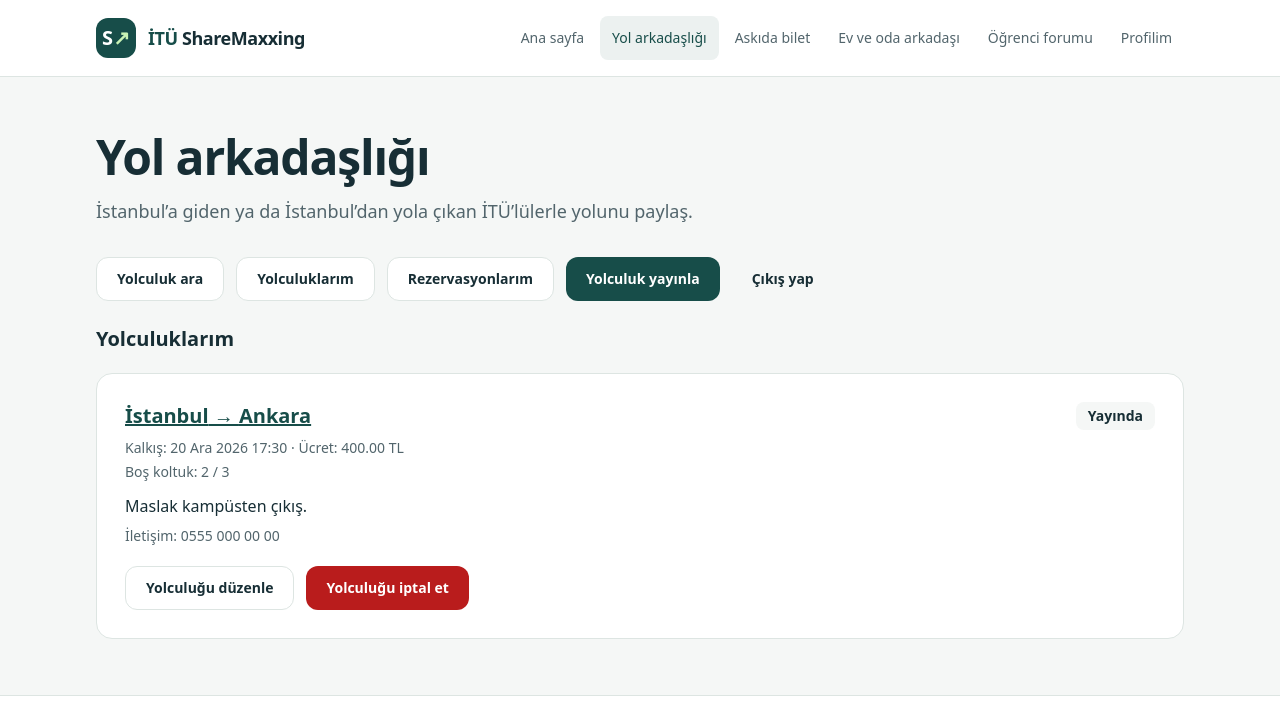
Test: requires explicit confirmation before cancelling a trip
Expected: the heading "İstanbul → Ankara" is shown, [125, 402, 311, 430]
Click the button "Yolculuğu iptal et" at [388, 588], box [306, 566, 469, 610]
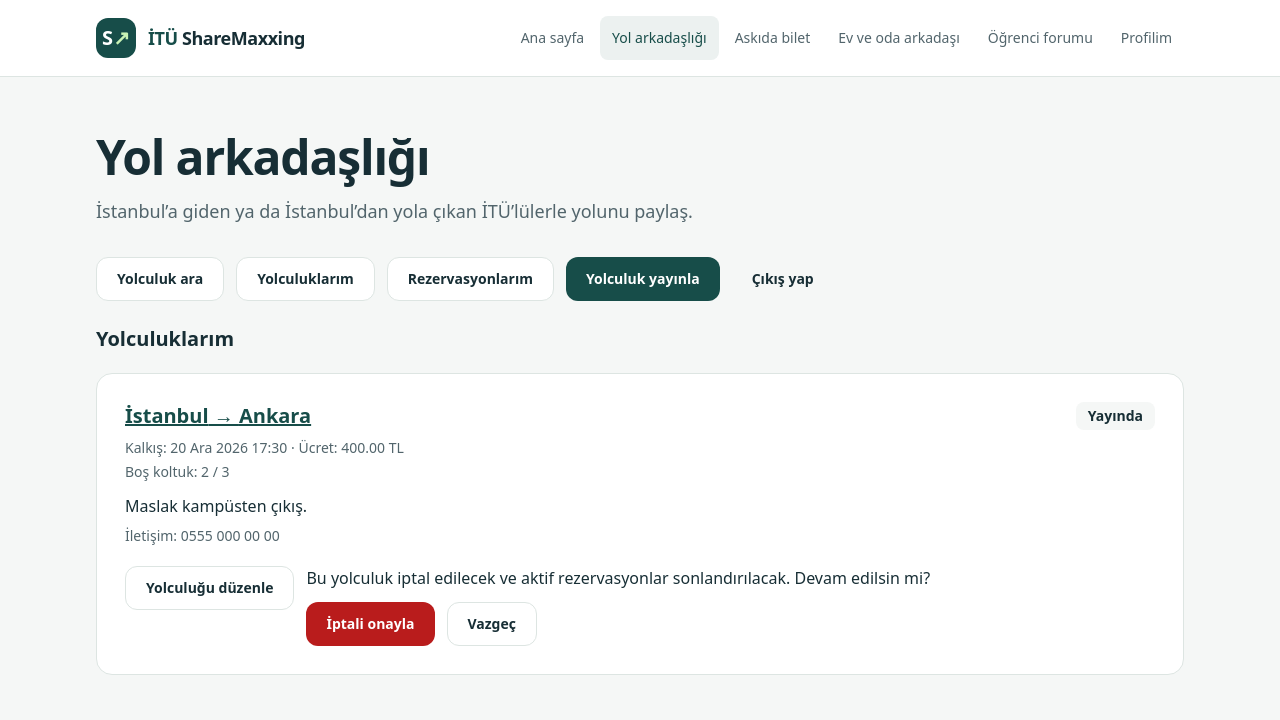
Click the button "Vazgeç" at [492, 624], box [446, 602, 537, 646]
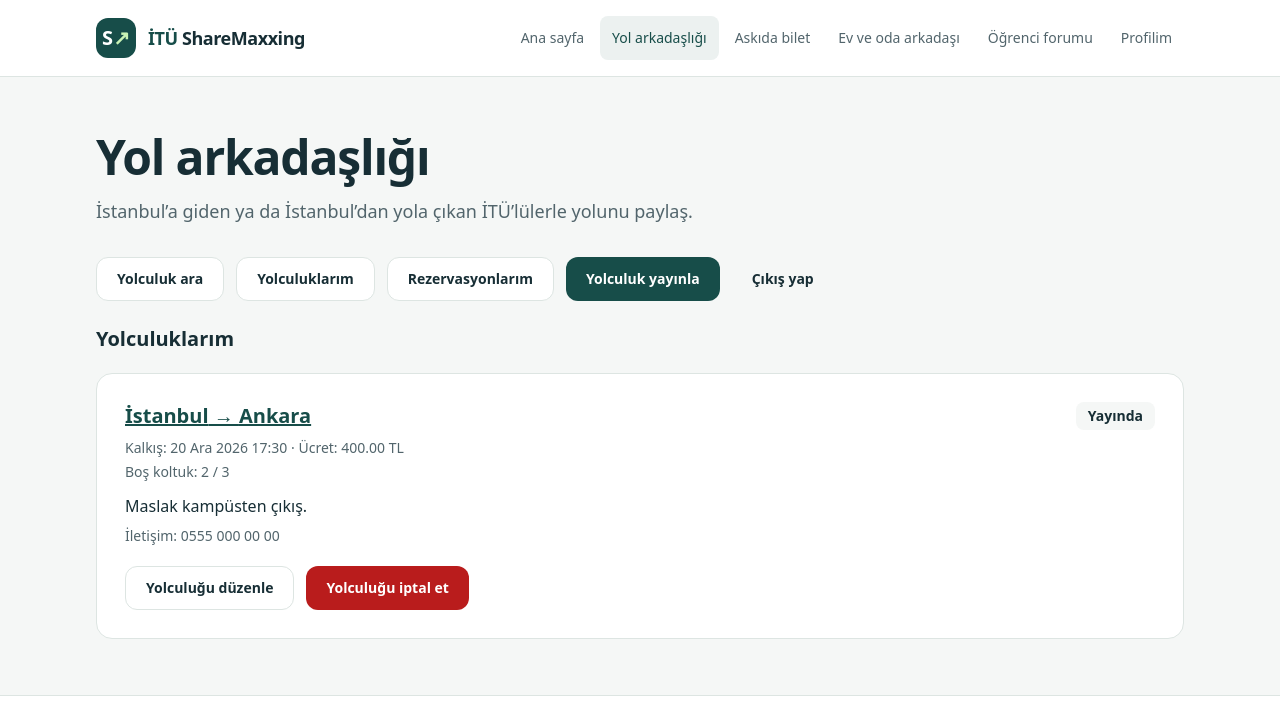
Click the button "Yolculuğu iptal et" at [388, 588], box [306, 566, 469, 610]
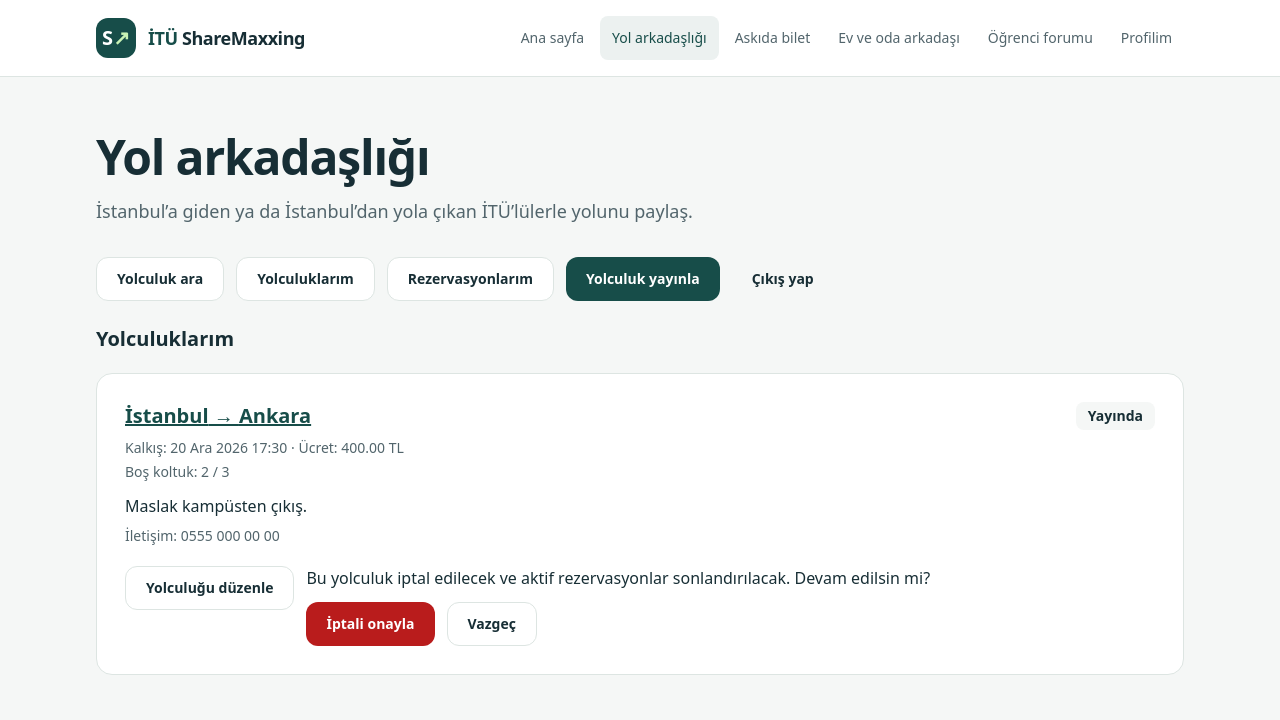
Click the button "İptali onayla" at [370, 624], box [306, 602, 434, 646]
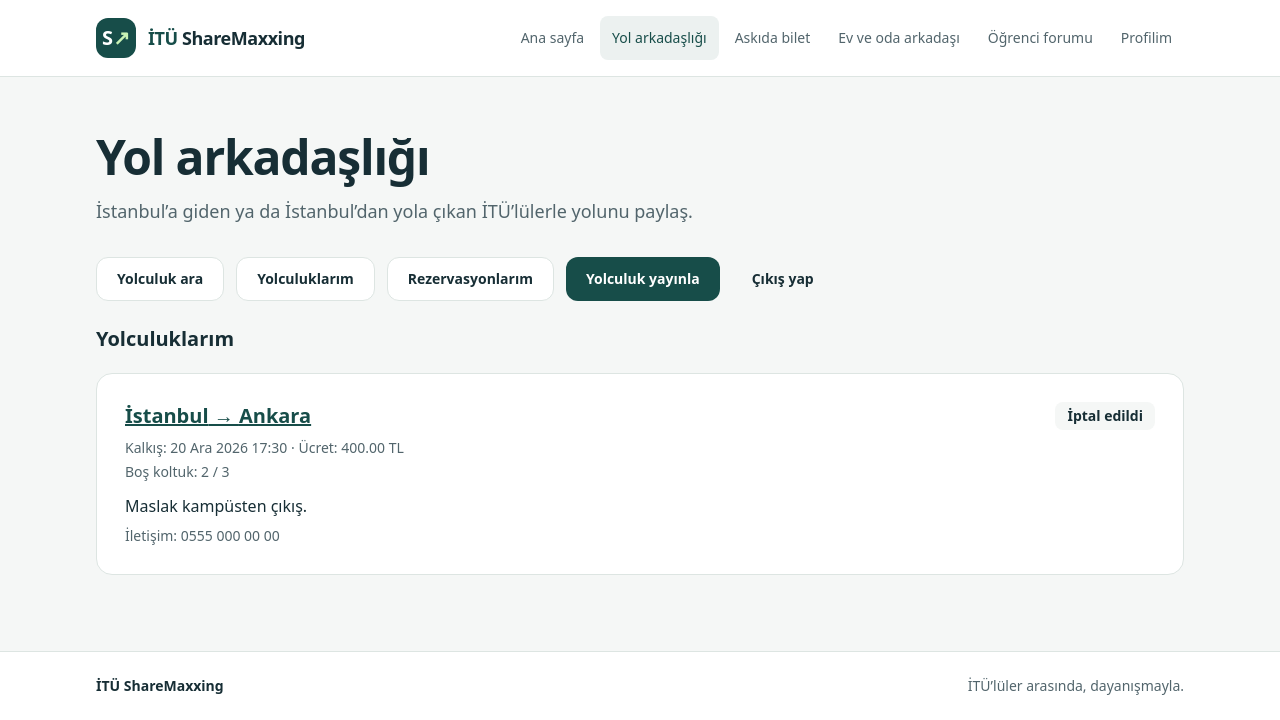
Now the text "İptal edildi" is shown, box [1055, 402, 1155, 430]
